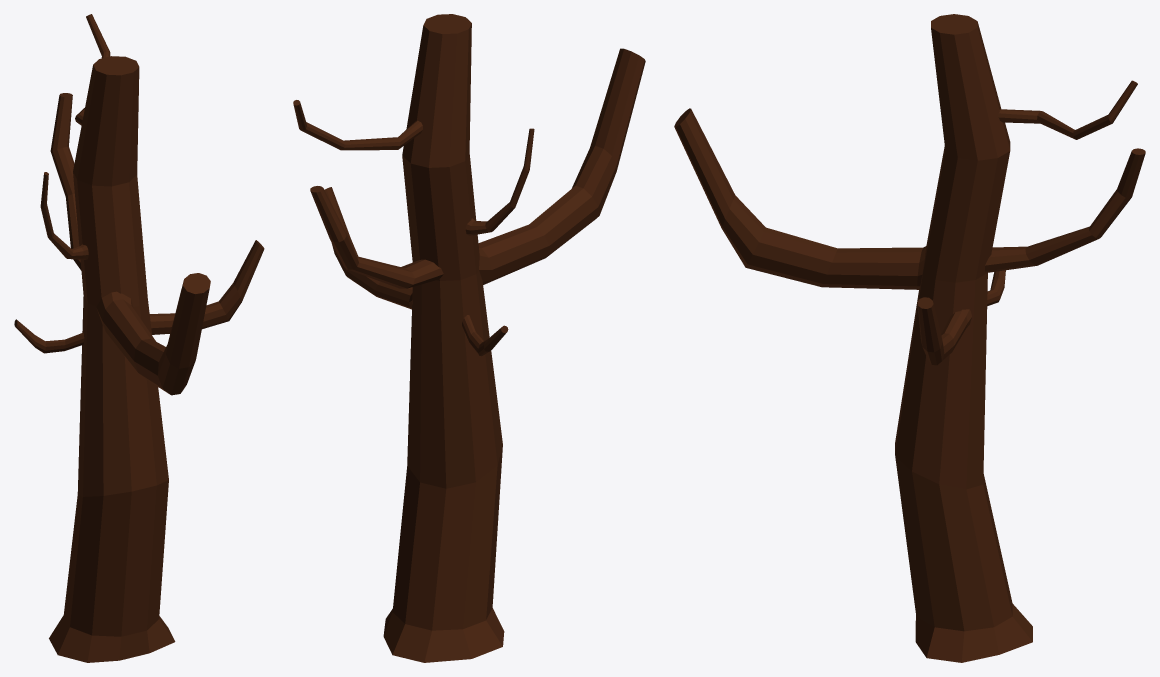
The model's file is Tree-Desolated.FBX.
3 views of the same model, side by side, from view 1: azimuth 30°, elevation 25°; view 2: azimuth 150°, elevation 25°; view 3: azimuth 270°, elevation 25° (orthographic). The views are drawn at different scales.
Parts seen in each view (by area): view 1: Tree; view 2: Tree; view 3: Tree.
Boxes of the visible parts, x1,y1,x2,y2 form: Tree: (14, 14, 264, 662); Tree: (293, 14, 645, 662); Tree: (674, 14, 1145, 662).
Bounding box in the file's own units: 116 × 300 × 210.
